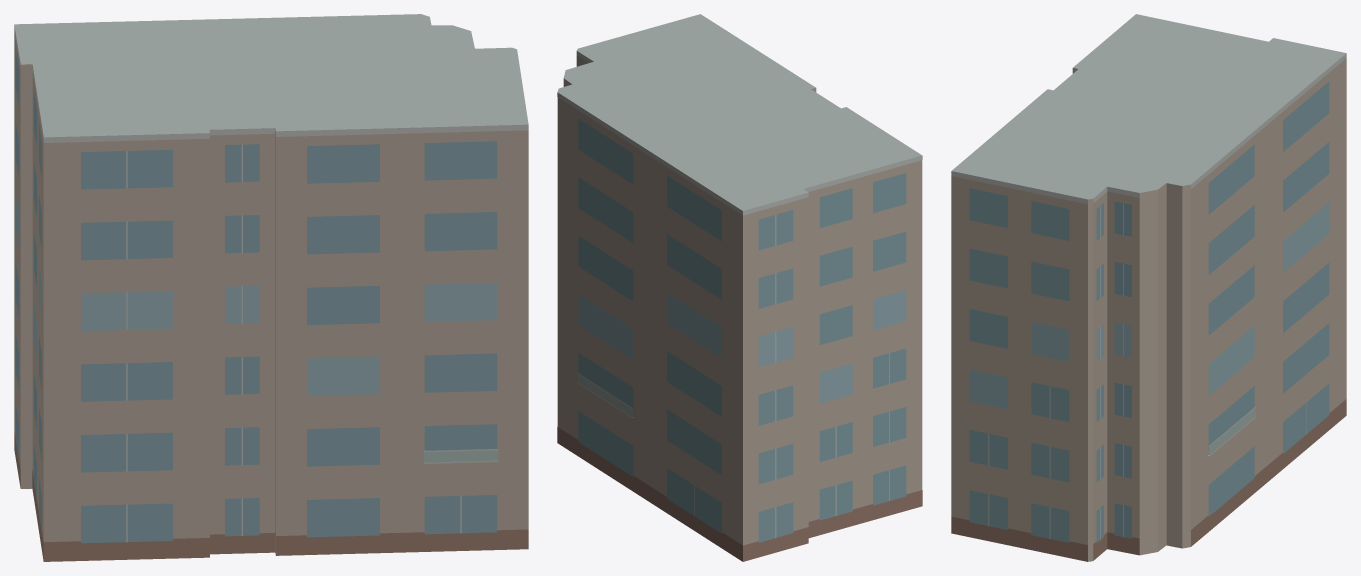
Rendered from survey-upis-32693514.glb.
The picture shows the model from 3 angles, left to right: view 1: azimuth 30°, elevation 25°; view 2: azimuth 150°, elevation 25°; view 3: azimuth 270°, elevation 25°; orthographic projection. The views are drawn at different scales.
Visible parts, largest first — view 1: survey-upis-32693514.tmp; view 2: survey-upis-32693514.tmp; view 3: survey-upis-32693514.tmp.
Part boxes in pixels (x1,y1,x2,y2): survey-upis-32693514.tmp: (14, 14, 528, 561); survey-upis-32693514.tmp: (557, 14, 922, 561); survey-upis-32693514.tmp: (951, 14, 1346, 561).
Bounding box in the file's own units: 20.1 × 18.3 × 18.1.
